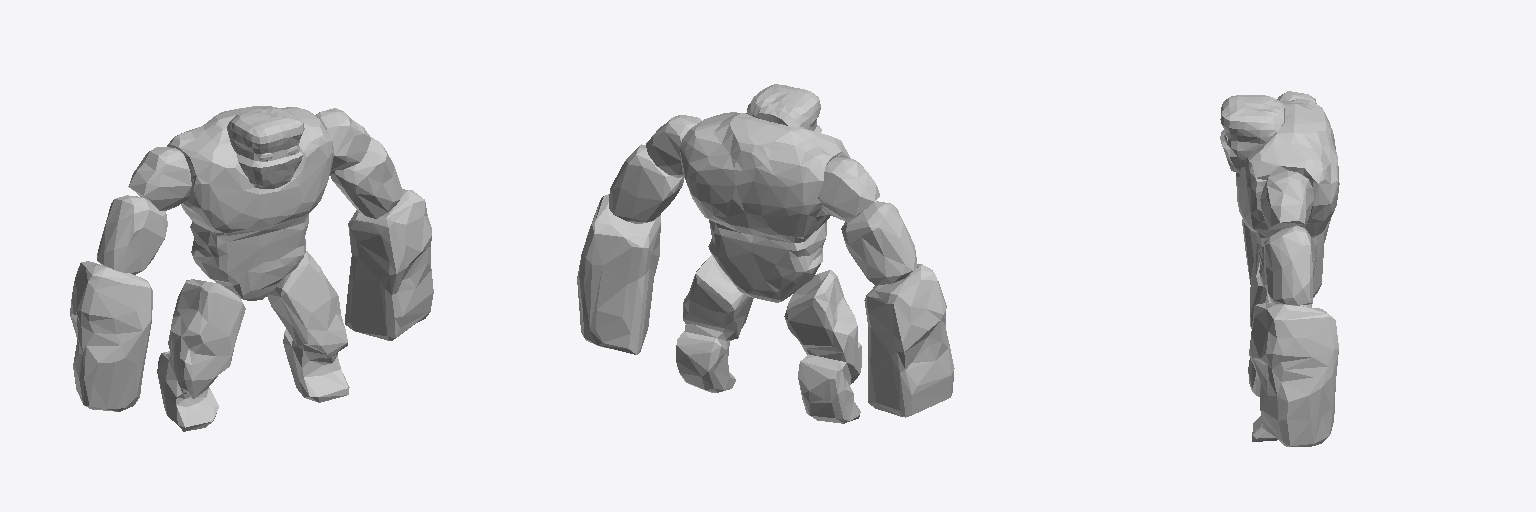
3 views of the same model, side by side, from view 1: azimuth 30°, elevation 25°; view 2: azimuth 150°, elevation 25°; view 3: azimuth 270°, elevation 25° (orthographic).
Parts seen in each view (by area): view 1: hands&leg.001_ice.003, torso.001_ice.005, head.001_ice.004; view 2: hands&leg.001_ice.003, torso.001_ice.005, head.001_ice.004; view 3: hands&leg.001_ice.003, torso.001_ice.005, head.001_ice.004.
Boxes of the visible parts, <box> form: hands&leg.001_ice.003: <box>70,108,433,431</box>; torso.001_ice.005: <box>167,106,333,300</box>; head.001_ice.004: <box>227,108,304,188</box>; hands&leg.001_ice.003: <box>577,115,954,423</box>; torso.001_ice.005: <box>680,112,849,302</box>; head.001_ice.004: <box>746,84,821,132</box>; hands&leg.001_ice.003: <box>1242,91,1338,446</box>; torso.001_ice.005: <box>1236,98,1339,291</box>; head.001_ice.004: <box>1220,95,1284,173</box>.
Bounding box in the file's own units: 11.9 × 9.58 × 3.41.